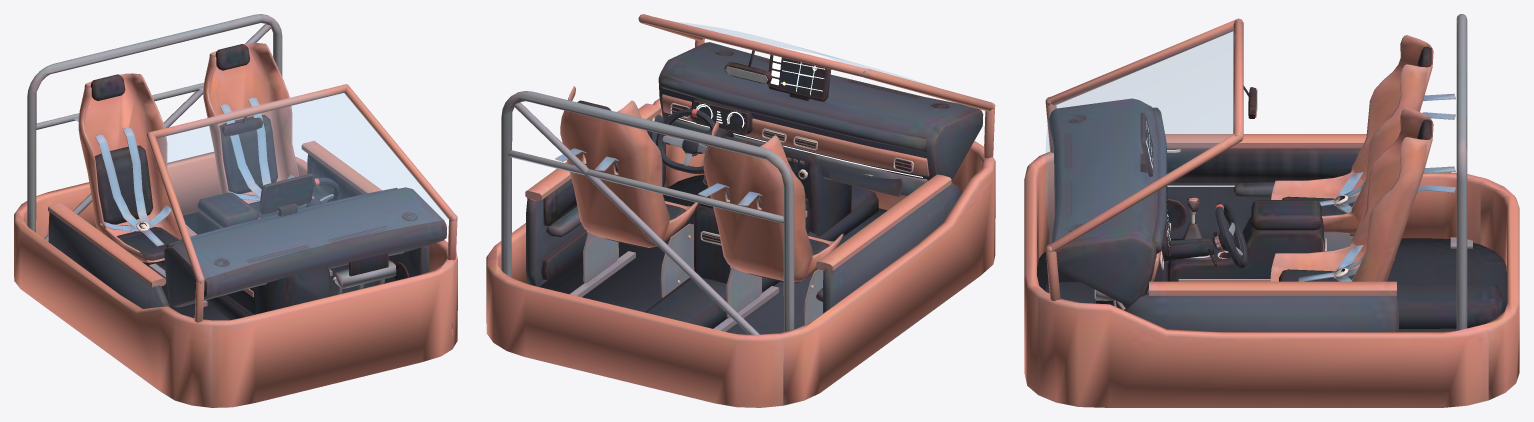
Rendered from sports_cockpit.glb.
3 renders of one model, left to right at view 1: azimuth 30°, elevation 25°; view 2: azimuth 150°, elevation 25°; view 3: azimuth 270°, elevation 25°, orthographic. The views are drawn at different scales.
Parts seen in each view (by area): view 1: sports-car-cockpit_body, sports-car-cockpit_windshield_glass, sports-car-cockpit_steering_wheel; view 2: sports-car-cockpit_body, sports-car-cockpit_steering_wheel, sports-car-cockpit_windshield_glass, sports-car-cockpit_dash_screen_glow; view 3: sports-car-cockpit_body, sports-car-cockpit_windshield_glass, sports-car-cockpit_steering_wheel.
Boxes of the visible parts, left/top/right/bottom form: sports-car-cockpit_body: left=14, top=14, right=457, bottom=407; sports-car-cockpit_windshield_glass: left=157, top=92, right=448, bottom=278; sports-car-cockpit_steering_wheel: left=297, top=177, right=339, bottom=208; sports-car-cockpit_body: left=486, top=14, right=995, bottom=407; sports-car-cockpit_steering_wheel: left=656, top=108, right=721, bottom=173; sports-car-cockpit_windshield_glass: left=677, top=22, right=930, bottom=85; sports-car-cockpit_dash_screen_glow: left=770, top=55, right=825, bottom=95; sports-car-cockpit_body: left=1024, top=14, right=1519, bottom=407; sports-car-cockpit_windshield_glass: left=1045, top=28, right=1235, bottom=243; sports-car-cockpit_steering_wheel: left=1213, top=202, right=1247, bottom=268.
Bounding box in the file's own units: 1.76 × 1.25 × 2.22.
Materials: 10 (2 with a texture image).
